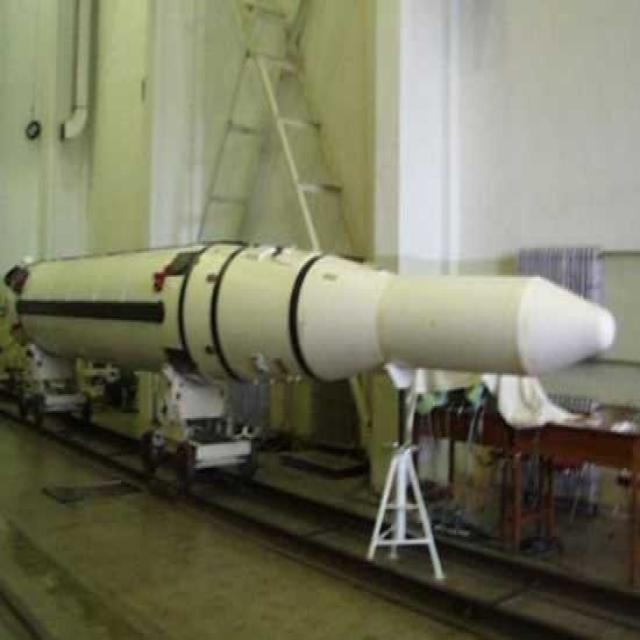missile: (7, 259, 623, 379)
